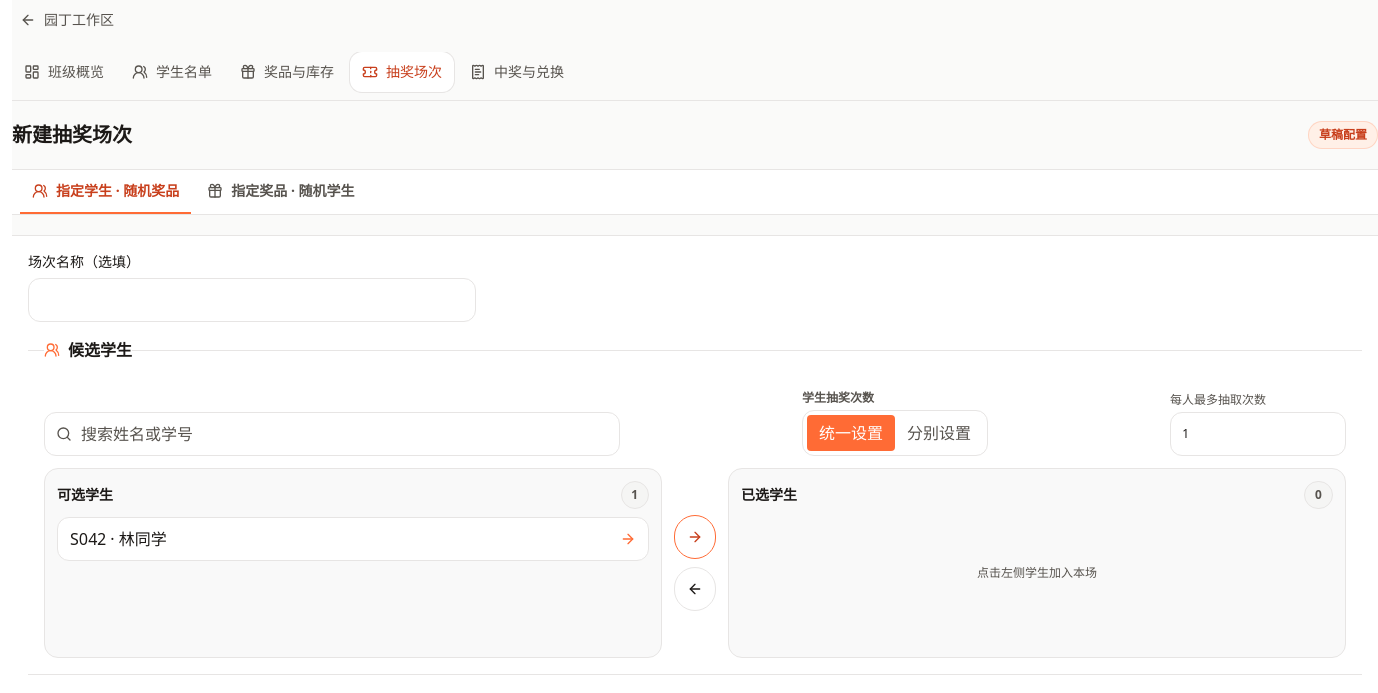
Scenario: candidate transfer controls add students and prizes to the submission
Click the button with aria-label "添加 S042 · 林同学": (118, 539) [57,517,649,561]
(page scrolled)
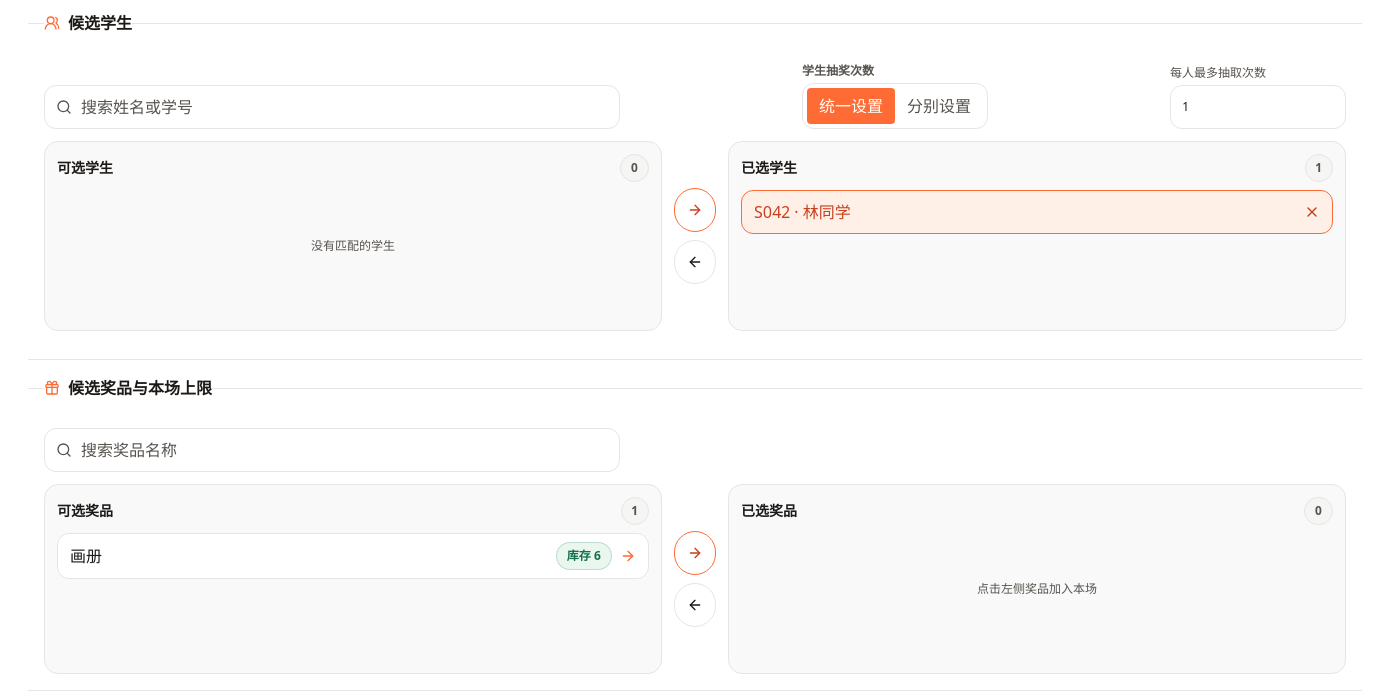
Click the button with aria-label "添加 画册": (86, 556) [57,533,649,579]
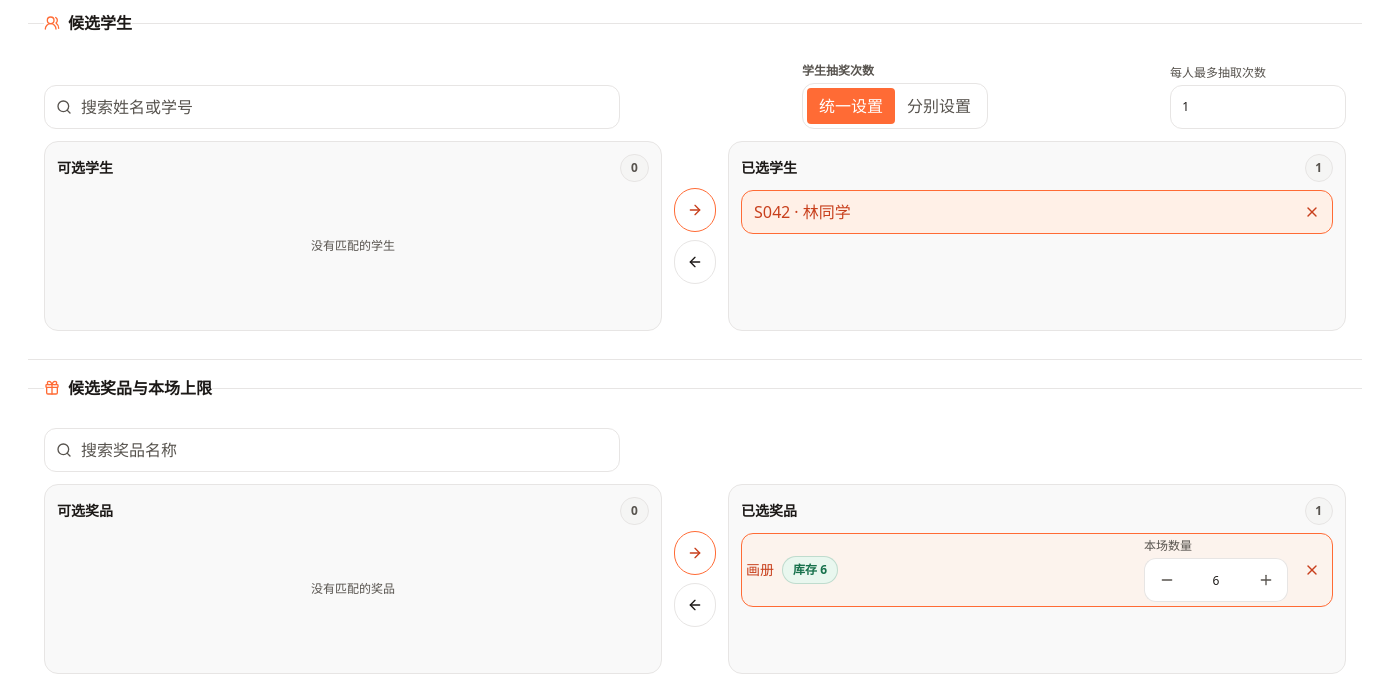
Expected: the element named "studentIds" holds "42", [44,63,1346,331]
Now the field named "本场数量 画册" is shown, box [1188,558,1244,602]
